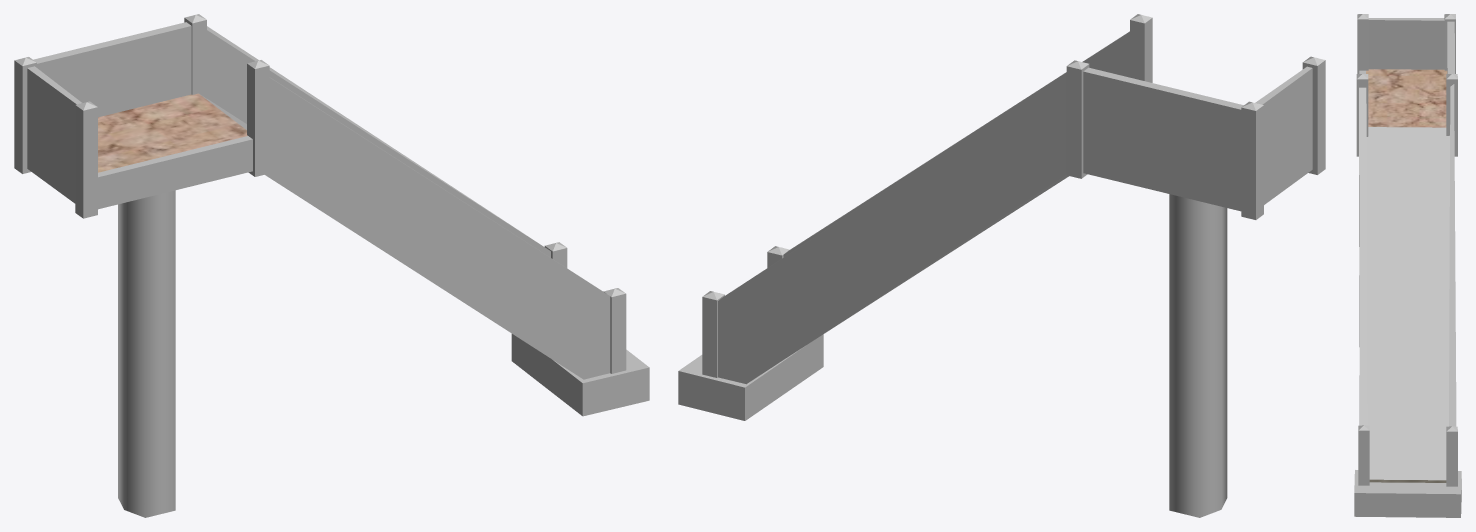
File: footbridge03r.fbx
The picture shows the model from 3 angles, left to right: view 1: azimuth 30°, elevation 25°; view 2: azimuth 150°, elevation 25°; view 3: azimuth 270°, elevation 25°; orthographic projection. The views are drawn at different scales.
Visible parts, largest first — view 1: footbridge03r; view 2: footbridge03r; view 3: footbridge03r.
Boxes of the visible parts, x1,y1,x2,y2 form: footbridge03r: (14,14,649,517); footbridge03r: (678,14,1325,517); footbridge03r: (1354,14,1461,517).
Size of the model in its own units: 10.54 by 7.86 by 2.41.
